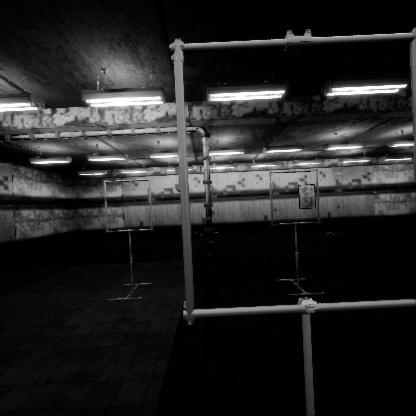gate: (173, 94, 416, 383), (269, 189, 324, 246), (104, 182, 157, 237)
